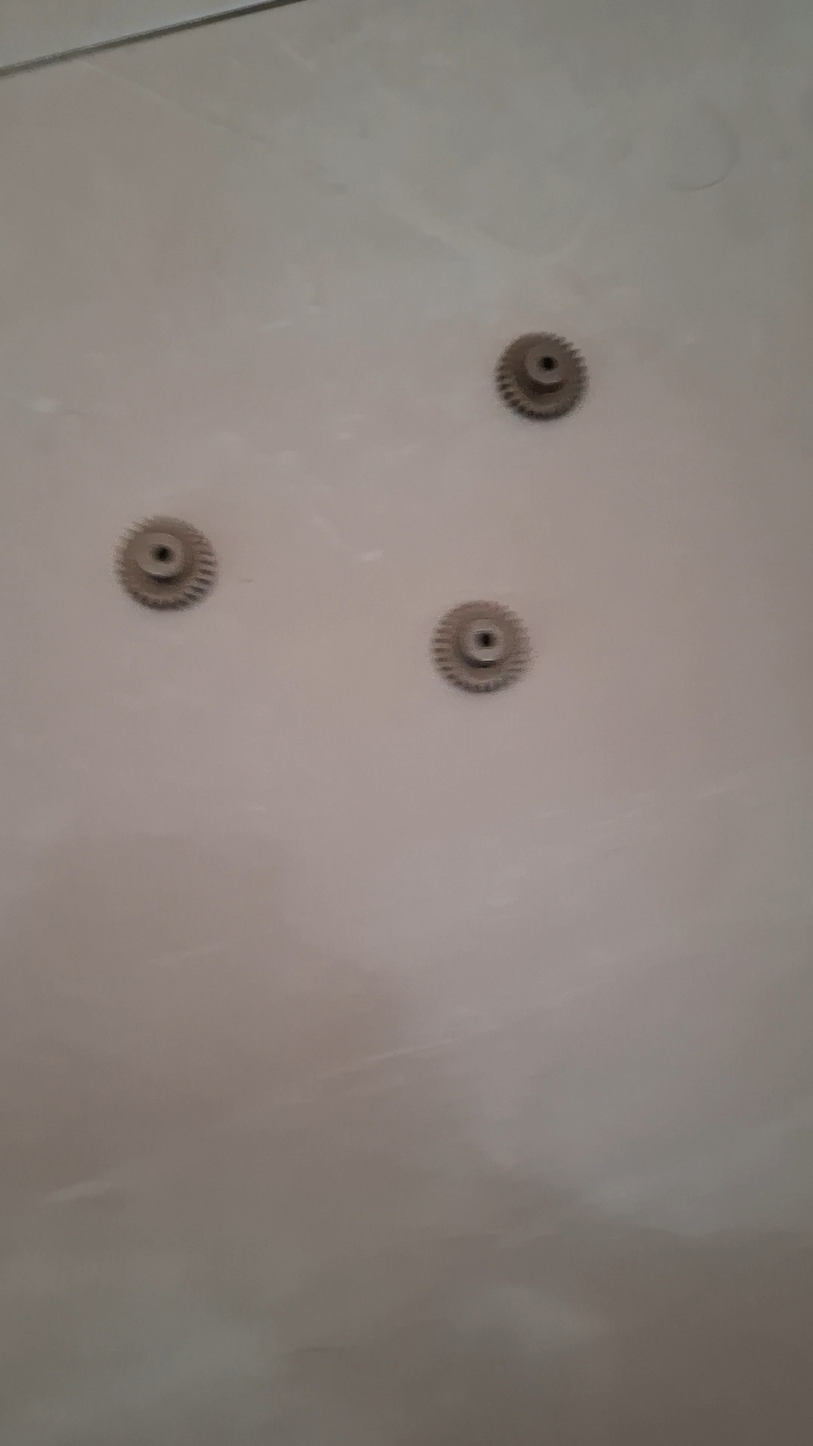spur gear: (117, 517, 216, 609), (432, 602, 531, 692), (495, 333, 587, 419)
